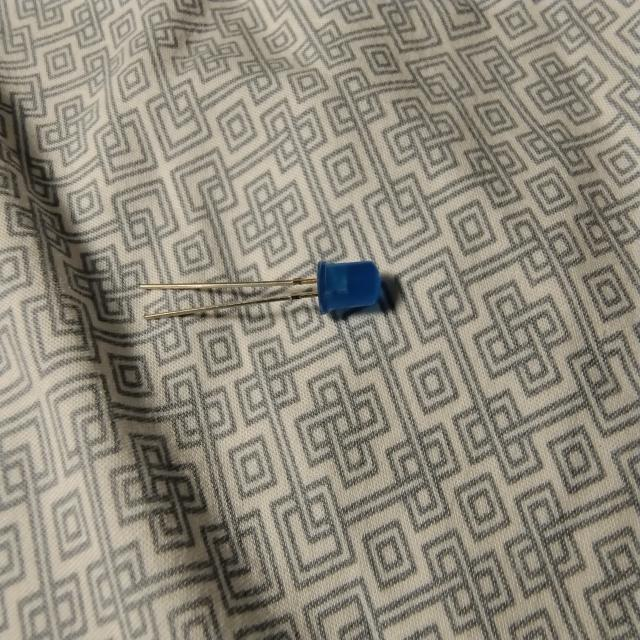blue_led: (316, 259, 382, 318)
